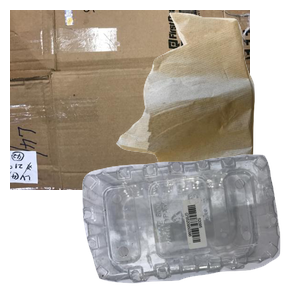cardboard: (10, 10, 250, 190)
glass: (95, 164, 286, 300)
plastic: (80, 152, 300, 300)
trash: (114, 10, 300, 189)
